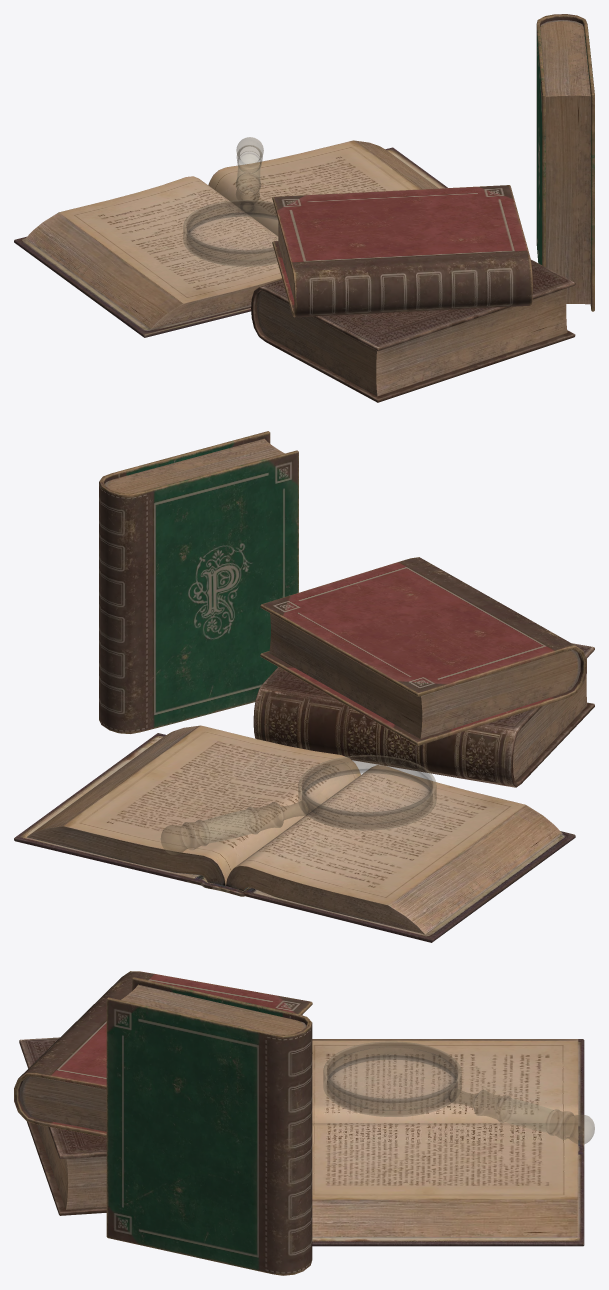
The picture shows the model from 3 angles, top to bottom: view 1: azimuth 30°, elevation 25°; view 2: azimuth 150°, elevation 25°; view 3: azimuth 270°, elevation 25°; orthographic projection. The views are drawn at different scales.
Parts seen in each view (by area): view 1: Open_book_Open_book_Mat_0, Book_3_Book_3_Mat_0, Book_1_Book_1_Mat_0, Book_2_Book_2_Mat_0, Magnifier_Magnifier_0; view 2: Open_book_Open_book_Mat_0, Book_2_Book_2_Mat_0, Book_3_Book_3_Mat_0, Book_1_Book_1_Mat_0, Magnifier_Magnifier_0; view 3: Open_book_Open_book_Mat_0, Book_2_Book_2_Mat_0, Book_3_Book_3_Mat_0, Magnifier_Magnifier_0, Book_1_Book_1_Mat_0.
Part boxes in pixels (x1=…): Open_book_Open_book_Mat_0: x1=14, y1=140, x2=447, y2=337; Book_3_Book_3_Mat_0: x1=272, y1=185, x2=532, y2=317; Book_1_Book_1_Mat_0: x1=251, y1=259, x2=575, y2=402; Book_2_Book_2_Mat_0: x1=536, y1=14, x2=594, y2=311; Magnifier_Magnifier_0: x1=183, y1=137, x2=277, y2=266; Open_book_Open_book_Mat_0: x1=14, y1=725, x2=575, y2=942; Book_2_Book_2_Mat_0: x1=99, y1=431, x2=298, y2=733; Book_3_Book_3_Mat_0: x1=260, y1=557, x2=586, y2=745; Book_1_Book_1_Mat_0: x1=253, y1=643, x2=594, y2=787; Magnifier_Magnifier_0: x1=161, y1=755, x2=436, y2=854; Open_book_Open_book_Mat_0: x1=312, y1=1039, x2=584, y2=1246; Book_2_Book_2_Mat_0: x1=106, y1=977, x2=312, y2=1275; Book_3_Book_3_Mat_0: x1=14, y1=971, x2=312, y2=1137; Magnifier_Magnifier_0: x1=323, y1=1041, x2=594, y2=1144; Book_1_Book_1_Mat_0: x1=19, y1=1037, x2=106, y2=1215.
Size of the model in its own units: 0.4027 by 0.1928 by 0.4216.
5 materials, 5 textured.
